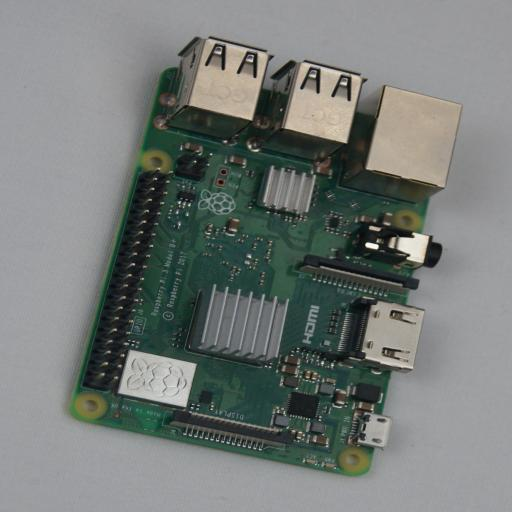Raspberry Pi 3 B-: (70, 36, 456, 476)
